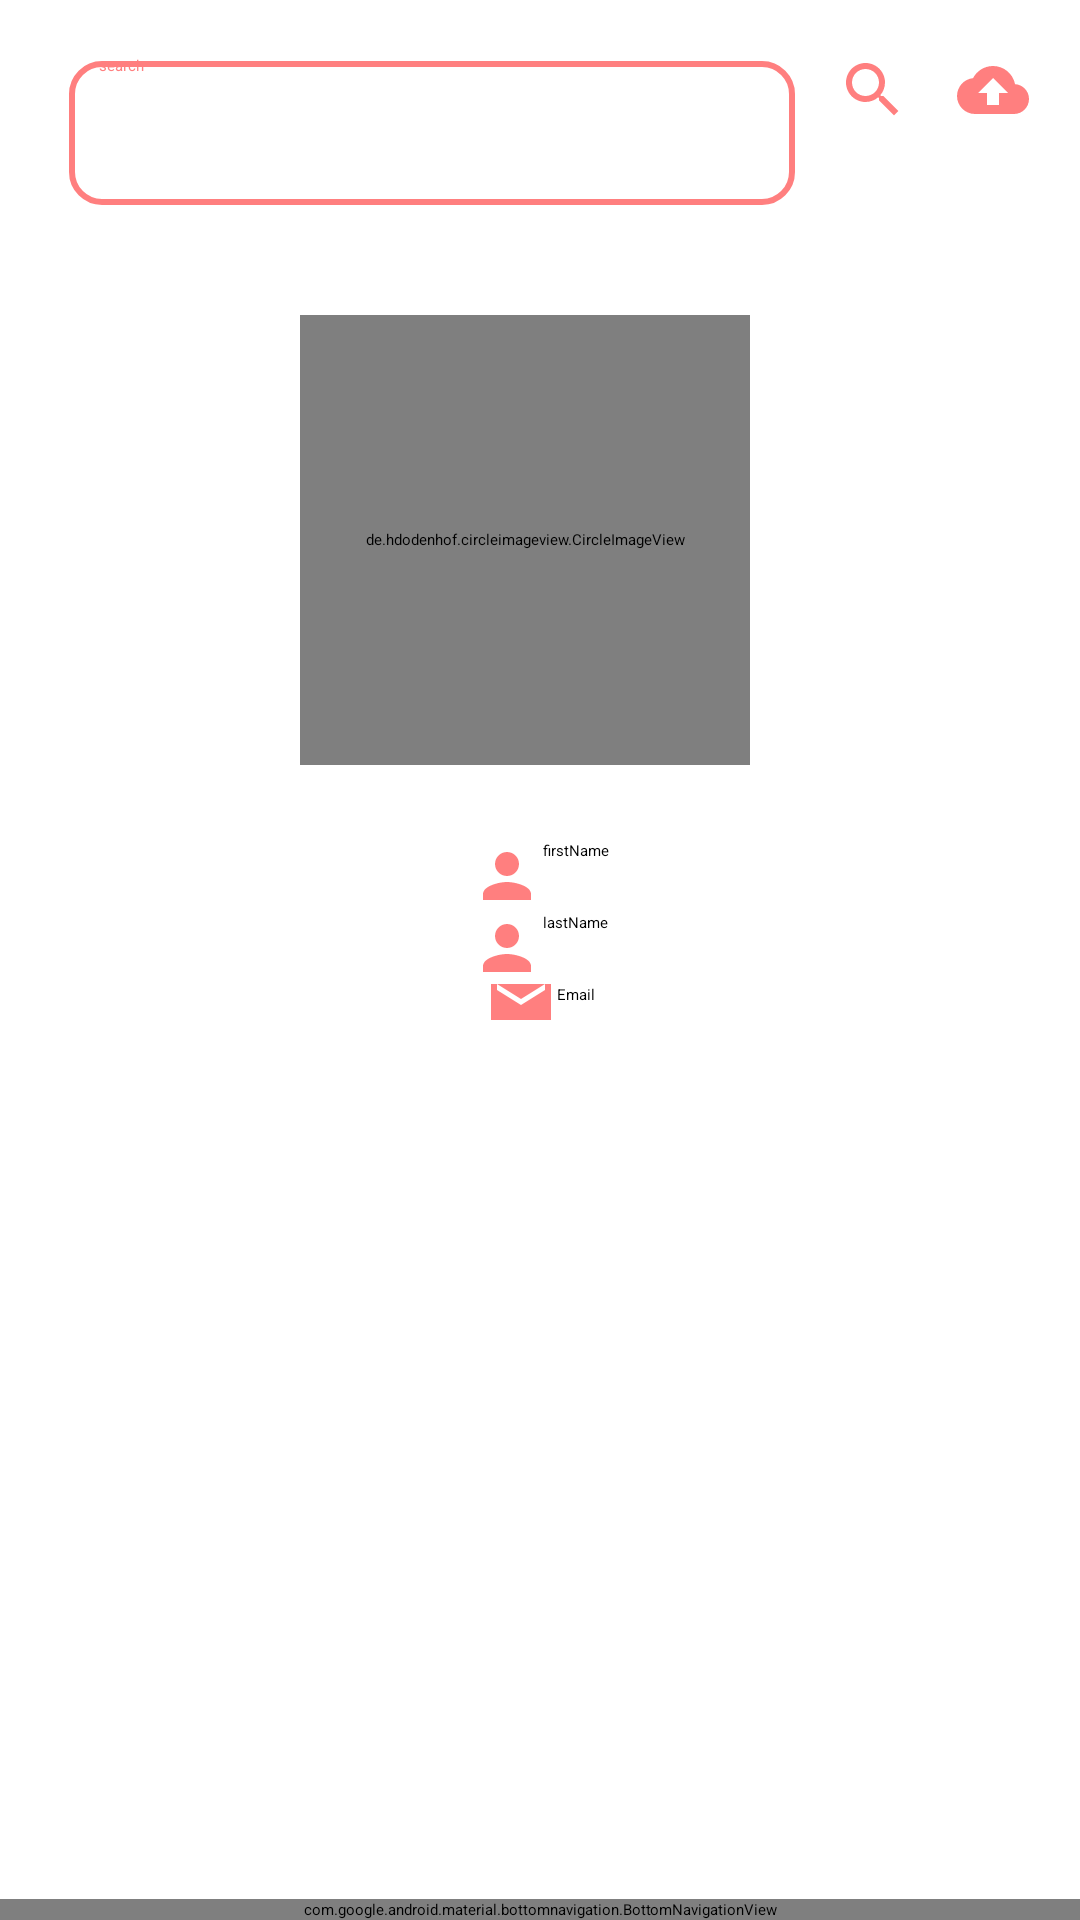

Icon bounding boxes for this 1080x1920 phone screenshot, format BBox(x1, y1, x2, y2):
cloud upload: BBox(957, 66, 1029, 114)
